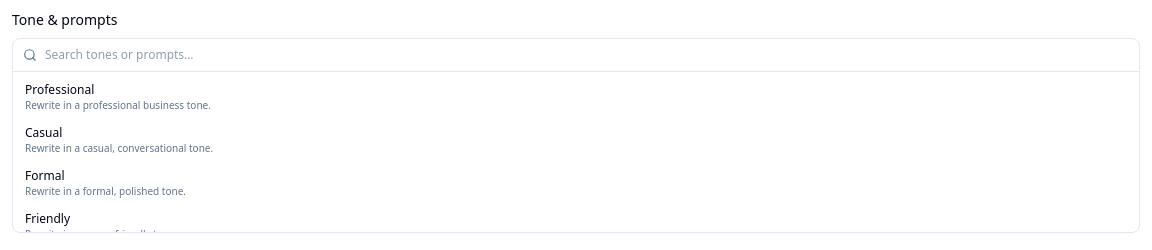
Test case: AiToneSubmenu › streams rewrite into the editor and offers confirm/cancel
This screenshot has width=1152, height=250.
Click the text "Professional": (60, 90) 25,81 -> 94,98
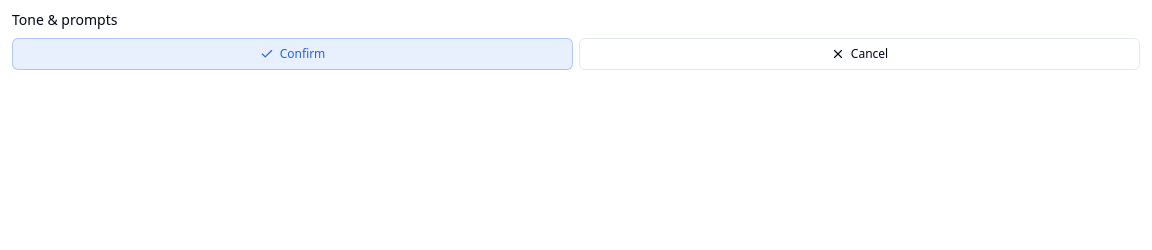
Expected: the button "Confirm" is shown, 12,38 -> 573,70
